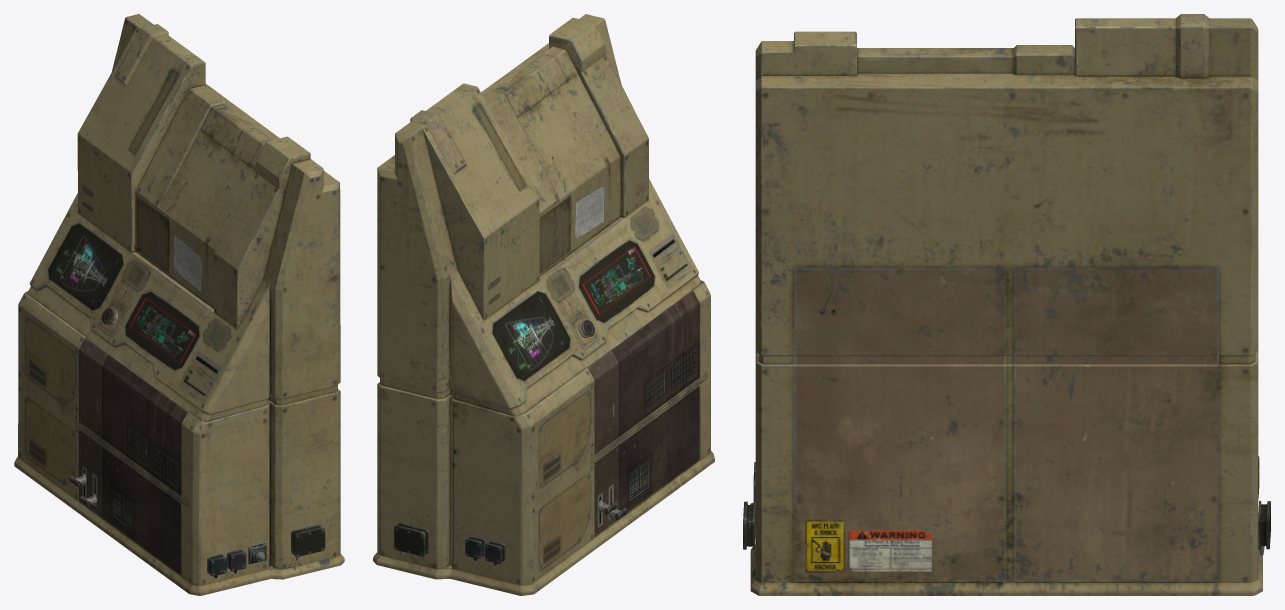
File: prop_computerStation_B.fbx
3 renders of one model, left to right at view 1: azimuth 30°, elevation 25°; view 2: azimuth 150°, elevation 25°; view 3: azimuth 270°, elevation 25°, orthographic. The views are drawn at different scales.
Visible parts, largest first — view 1: prop_computerStation_B; view 2: prop_computerStation_B; view 3: prop_computerStation_B.
Boxes of the visible parts, bbox=[...] form: prop_computerStation_B: bbox=[14, 14, 344, 595]; prop_computerStation_B: bbox=[373, 14, 714, 595]; prop_computerStation_B: bbox=[743, 14, 1270, 595].
Size of the model in its own units: 109 by 275 by 235.
Materials: 2 (2 with a texture image).
